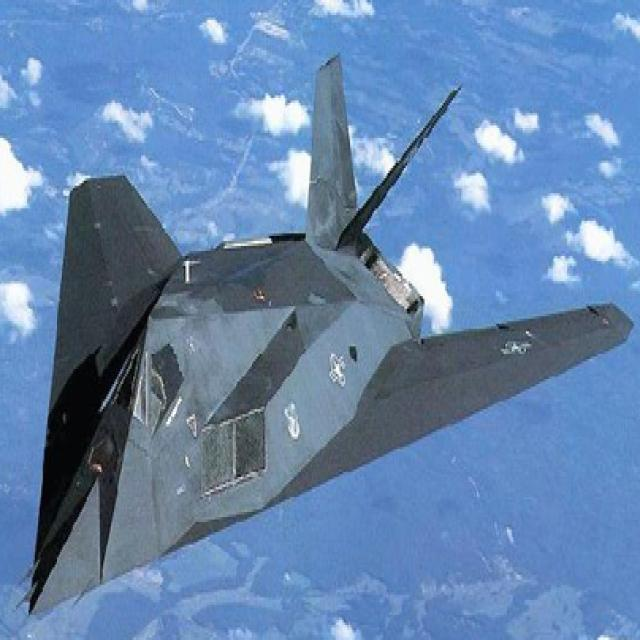F117: (0, 47, 640, 640)
